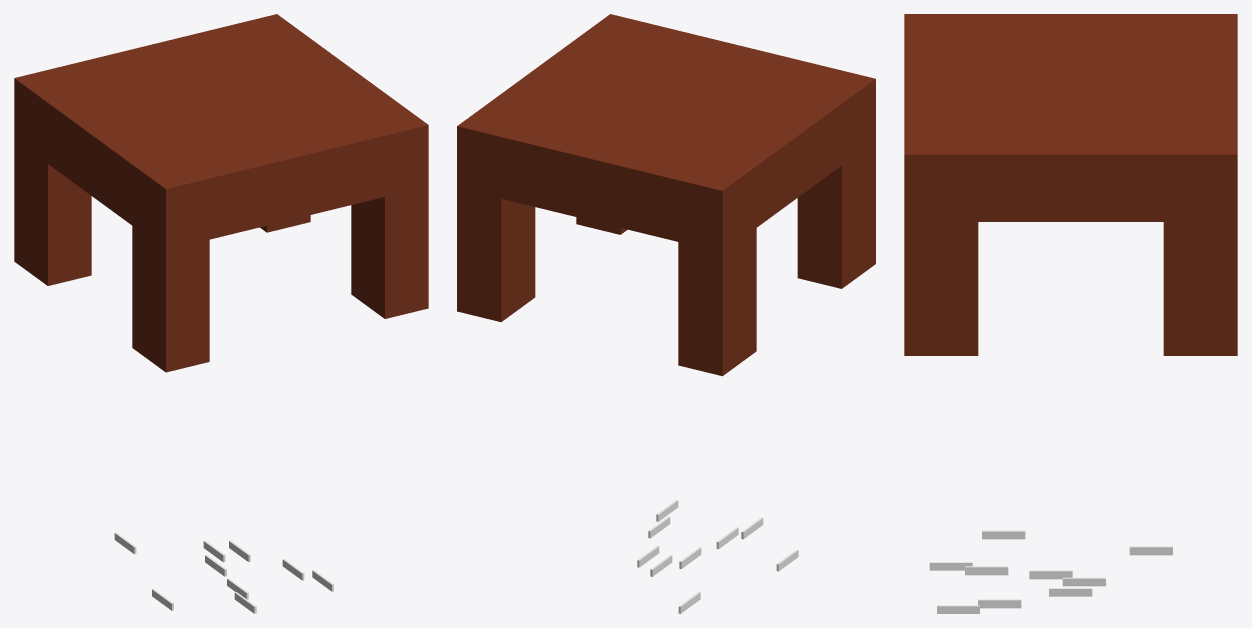
Rendered from problem_2.dae.
3 views of the same model, side by side, from view 1: azimuth 30°, elevation 25°; view 2: azimuth 150°, elevation 25°; view 3: azimuth 270°, elevation 25° (orthographic). The views are drawn at different scales.
Parts seen in each view (by area): view 1: base (×4); view 2: base (×4); view 3: base (×3).
Boxes of the visible parts, bbox=[...] form: base (×4): bbox=[14, 14, 428, 372]; base (×4): bbox=[457, 14, 875, 376]; base (×3): bbox=[904, 14, 1237, 355].
Size of what is drawn, in the model's own units: 0.9 by 0.9 by 1.5.
